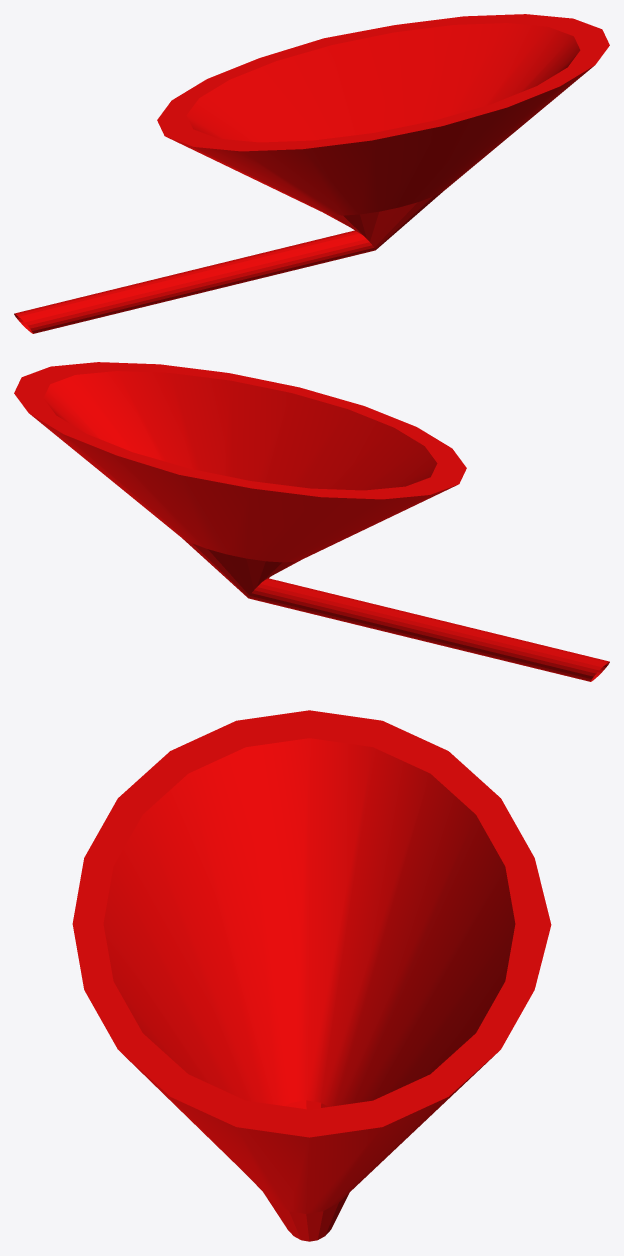
Rendered from Industrialist Funnel.fbx.
3 renders of one model, top to bottom at view 1: azimuth 30°, elevation 25°; view 2: azimuth 150°, elevation 25°; view 3: azimuth 270°, elevation 25°, orthographic. The views are drawn at different scales.
Parts seen in each view (by area): view 1: Industrialist_Funnel; view 2: Industrialist_Funnel; view 3: Industrialist_Funnel.
Boxes of the visible parts, x1,y1,x2,y2 form: Industrialist_Funnel: [14, 14, 609, 333]; Industrialist_Funnel: [14, 362, 609, 681]; Industrialist_Funnel: [72, 710, 551, 1241].
Size of the model in its own units: 86.97 by 23.26 by 30.77.
